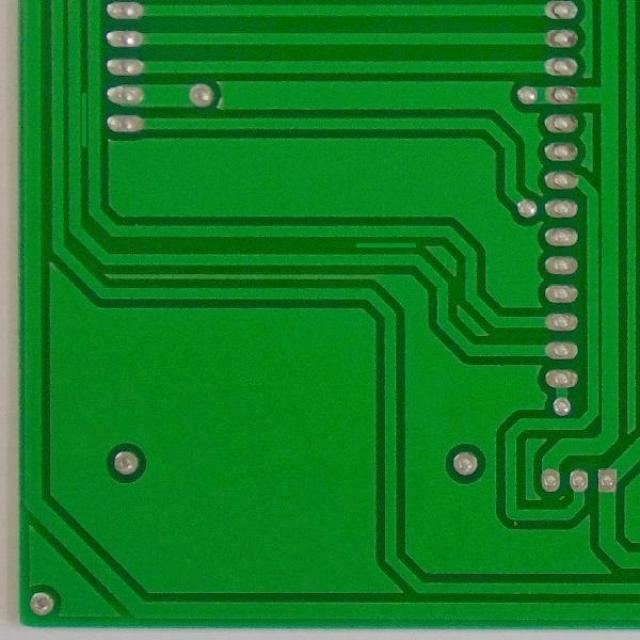spurious_copper: (349, 238, 419, 256), (76, 86, 94, 152)
